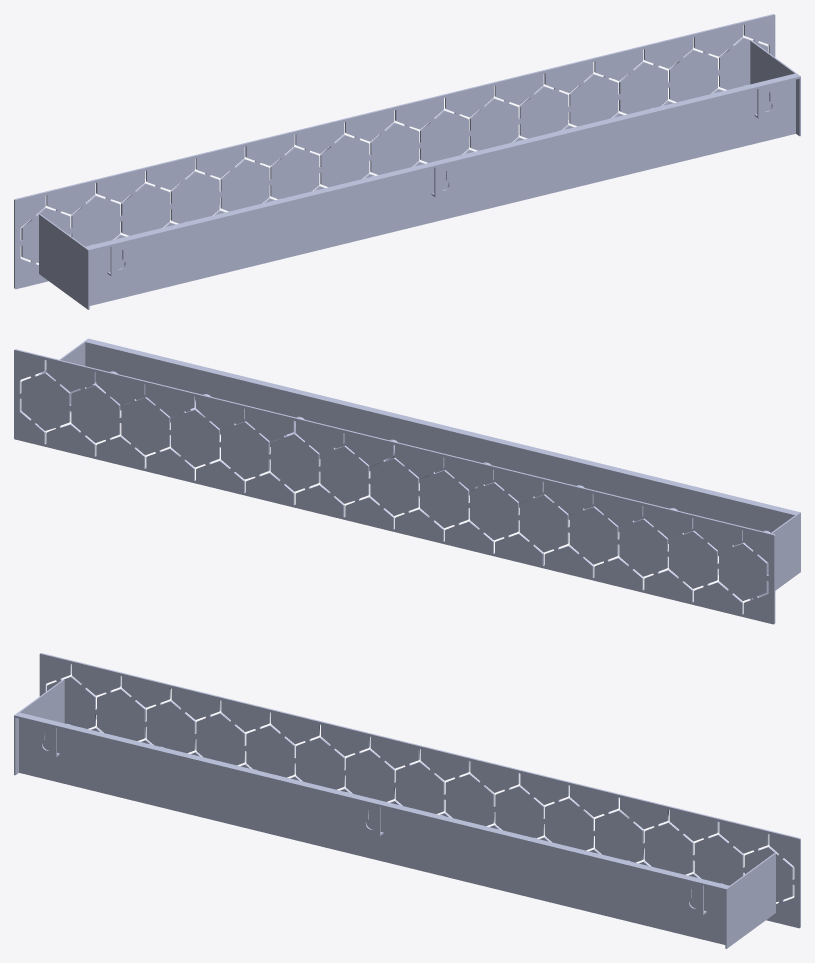
Rendered from bee-hook.4aceac9338.glb.
3 views of the same model, one above another, from view 1: azimuth 30°, elevation 25°; view 2: azimuth 150°, elevation 25°; view 3: azimuth 330°, elevation 25° (orthographic).
Visible parts, largest first — view 1: NAUO1; view 2: NAUO1; view 3: NAUO1.
Part boxes in pixels (box(x1,y1,x2,y2)): NAUO1: box(14, 14, 800, 309); NAUO1: box(14, 338, 800, 624); NAUO1: box(14, 653, 800, 948).
Bounding box in the file's own units: 0.8 × 0.0899 × 0.092.
